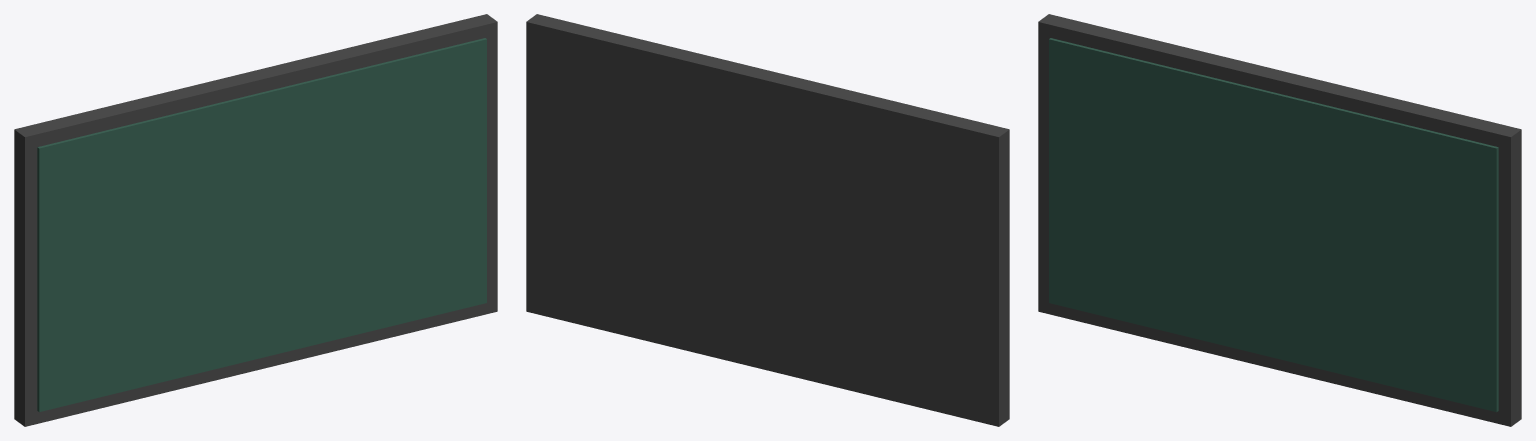
File: display-13in.glb
3 renders of one model, left to right at view 1: azimuth 30°, elevation 25°; view 2: azimuth 150°, elevation 25°; view 3: azimuth 330°, elevation 25°, orthographic.
Parts seen in each view (by area): view 1: geometry_1, geometry_0; view 2: geometry_0; view 3: geometry_1, geometry_0.
Boxes of the visible parts, bbox=[...] form: geometry_1: bbox=[37, 38, 486, 412]; geometry_0: bbox=[14, 14, 497, 426]; geometry_0: bbox=[526, 14, 1009, 426]; geometry_1: bbox=[1049, 38, 1498, 412]; geometry_0: bbox=[1038, 14, 1521, 426].
Size of the model in its own units: 0.304 by 0.178 by 0.014.
